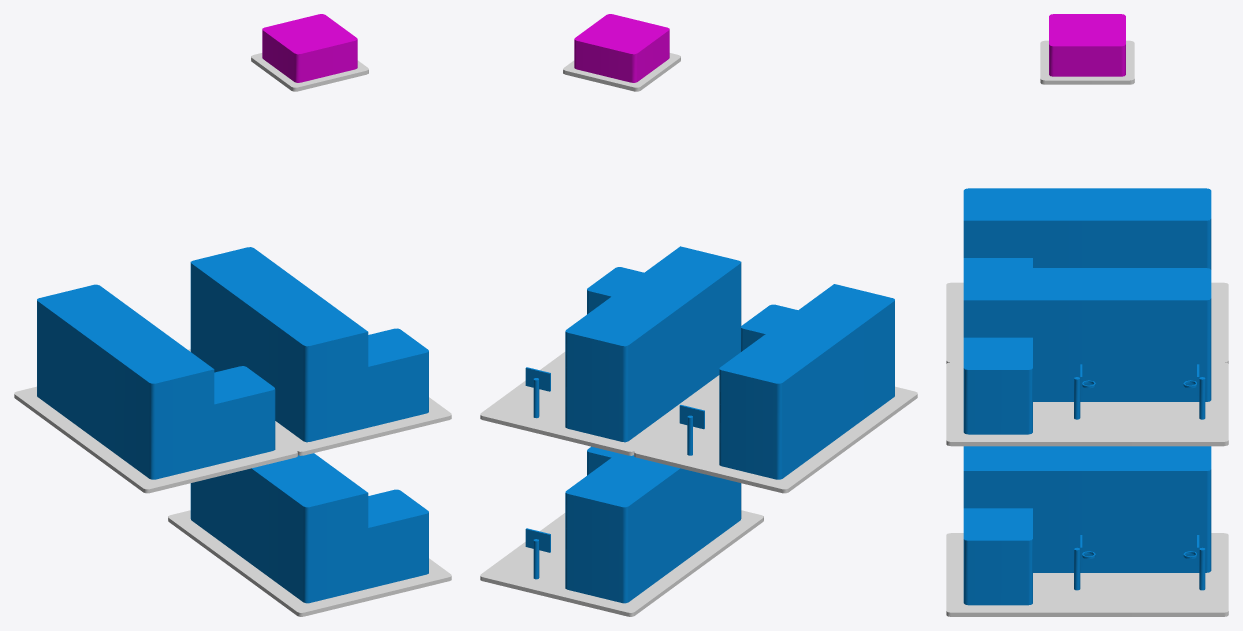
Rendered from MergedFTW.gltf.
3 views of the same model, side by side, from view 1: azimuth 30°, elevation 25°; view 2: azimuth 150°, elevation 25°; view 3: azimuth 270°, elevation 25° (orthographic). The views are drawn at different scales.
Visible parts, largest first — view 1: School_2x3 (×3), GStore_1x1; view 2: School_2x3 (×3), GStore_1x1; view 3: School_2x3 (×3), GStore_1x1.
Boxes of the visible parts, left/top/right/bottom form: School_2x3 (×3): left=14, top=247, right=451, bottom=616; GStore_1x1: left=251, top=14, right=368, bottom=91; School_2x3 (×3): left=480, top=246, right=917, bottom=616; GStore_1x1: left=563, top=14, right=680, bottom=91; School_2x3 (×3): left=946, top=188, right=1228, bottom=616; GStore_1x1: left=1040, top=14, right=1134, bottom=84.
Size of the model in its own units: 4 by 6.41 by 3.
